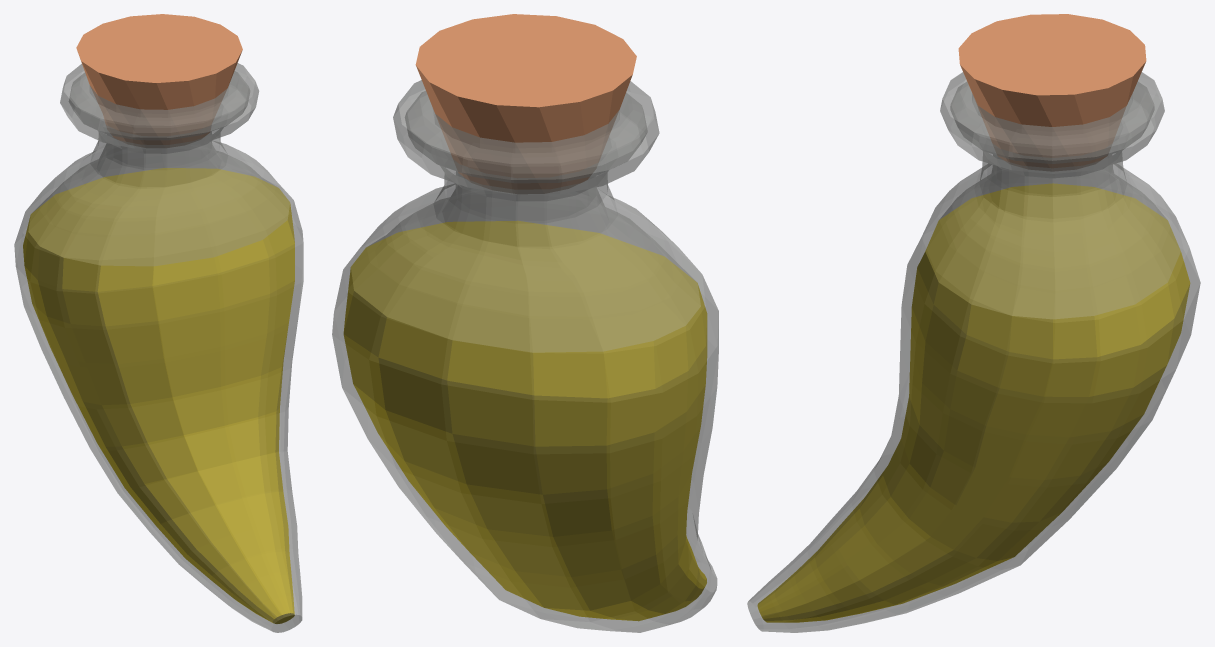
Rendered from MPPotionTry.dae.
The picture shows the model from 3 angles, left to right: view 1: azimuth 30°, elevation 25°; view 2: azimuth 150°, elevation 25°; view 3: azimuth 270°, elevation 25°; orthographic projection. The views are drawn at different scales.
Visible parts, largest first — view 1: Life_Potion, Life_Potion_001; view 2: Life_Potion, Life_Potion_001; view 3: Life_Potion, Life_Potion_001.
Boxes of the visible parts, box(x1,y1,x2,y2) form: Life_Potion: box(14, 63, 303, 632); Life_Potion_001: box(76, 14, 242, 144); Life_Potion: box(332, 80, 718, 632); Life_Potion_001: box(415, 14, 636, 189); Life_Potion: box(747, 72, 1200, 632); Life_Potion_001: box(958, 14, 1146, 168).
Size of the model in its own units: 3.1 by 4.04 by 5.65.
